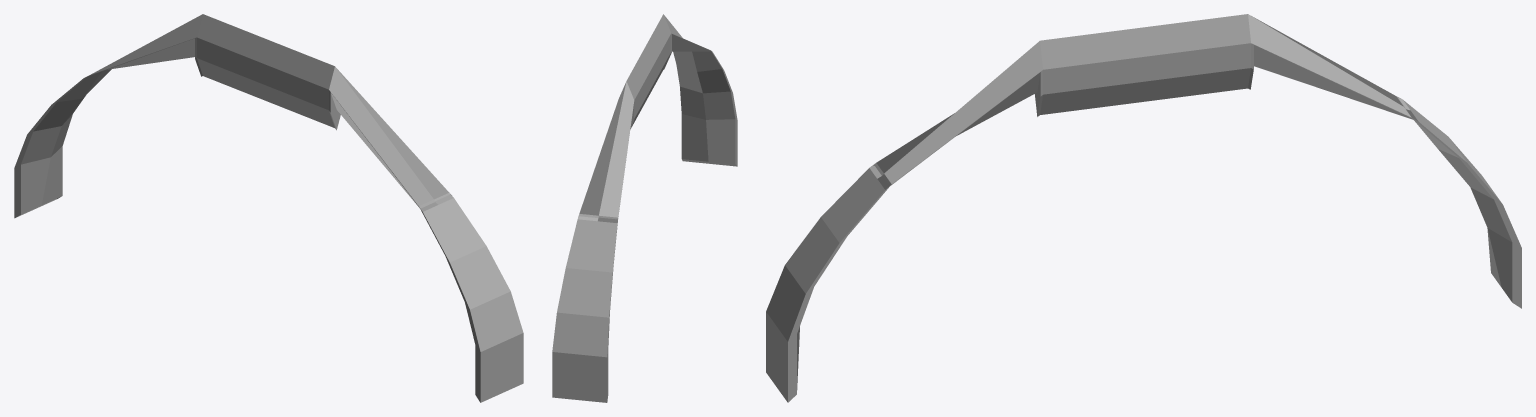
Rendered from Bucket Handle.obj.
The picture shows the model from 3 angles, left to right: view 1: azimuth 30°, elevation 25°; view 2: azimuth 150°, elevation 25°; view 3: azimuth 270°, elevation 25°; orthographic projection. The views are drawn at different scales.
Visible parts, largest first — view 1: Cylinder; view 2: Cylinder; view 3: Cylinder.
Boxes of the visible parts, left/top/right/bottom form: Cylinder: left=14, top=14, right=523, bottom=402; Cylinder: left=552, top=14, right=737, bottom=402; Cylinder: left=766, top=14, right=1521, bottom=402.
Size of the model in its own units: 1.08 by 1.26 by 2.76.
1 material, 1 textured.
